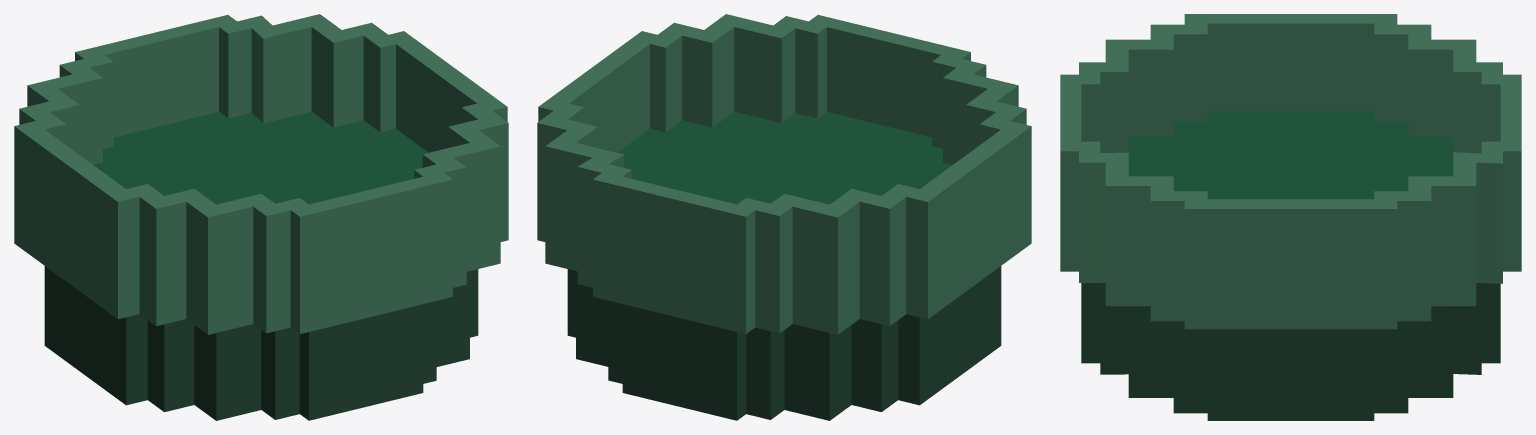
The model's file is Side Table Bowl.FBX.
3 renders of one model, left to right at view 1: azimuth 30°, elevation 25°; view 2: azimuth 150°, elevation 25°; view 3: azimuth 270°, elevation 25°, orthographic. The views are drawn at different scales.
Visible parts, largest first — view 1: bowl; view 2: bowl; view 3: bowl.
Part boxes in pixels (box(x1,y1,x2,y2)): bowl: box(14, 14, 508, 420); bowl: box(537, 14, 1031, 420); bowl: box(1060, 14, 1521, 420).
Size of the model in its own units: 3.33 by 1.76 by 3.33.
